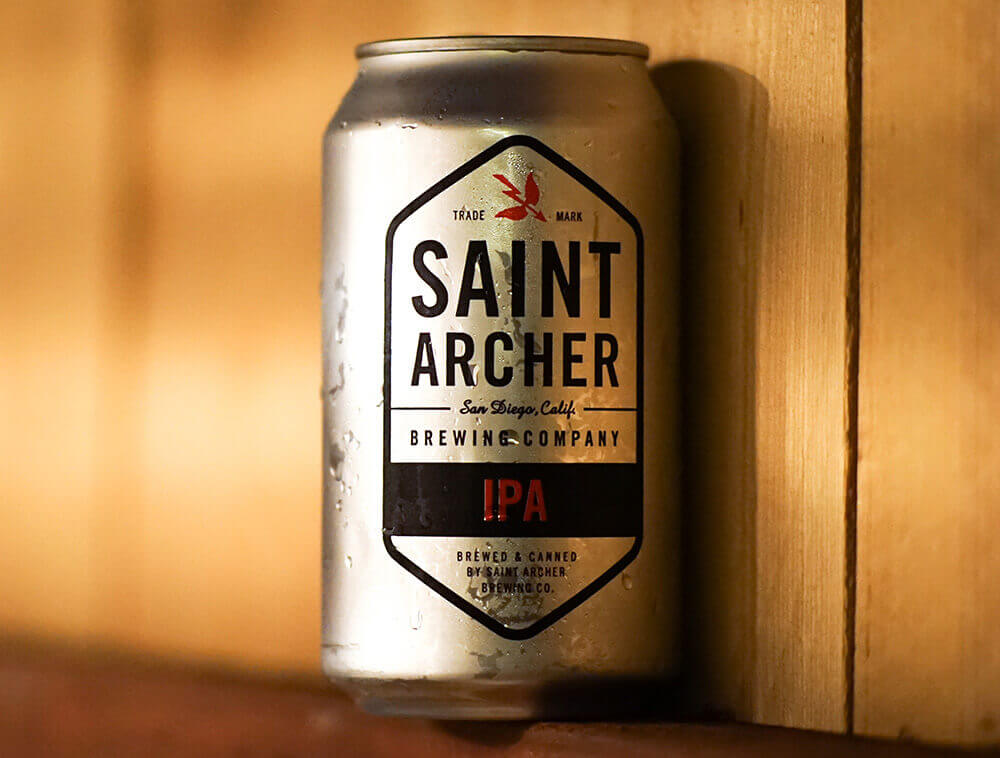beer can: (318, 35, 683, 720)
